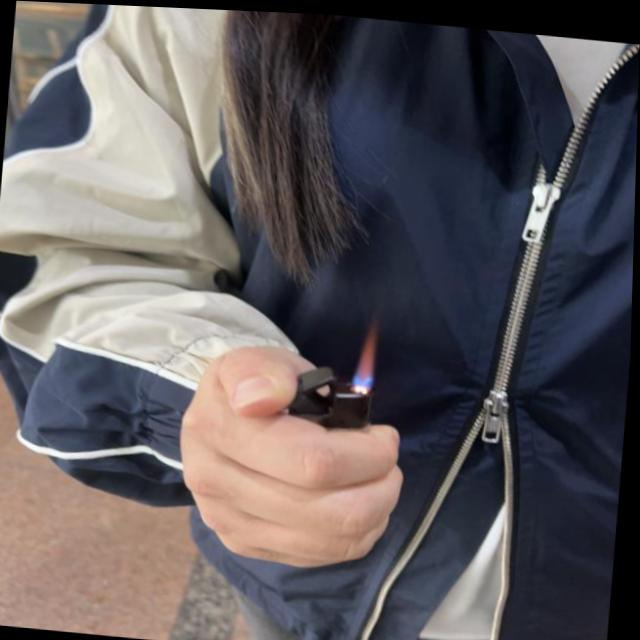Fire: (352, 315, 383, 391)
